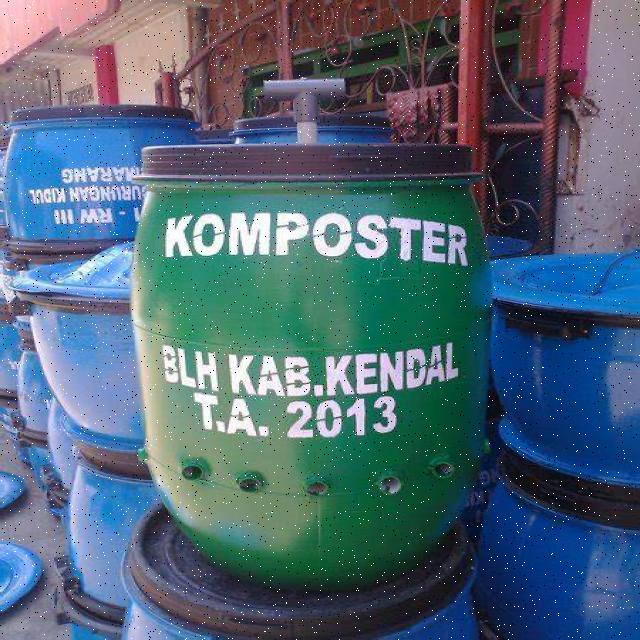garbage container: (114, 128, 606, 586)
